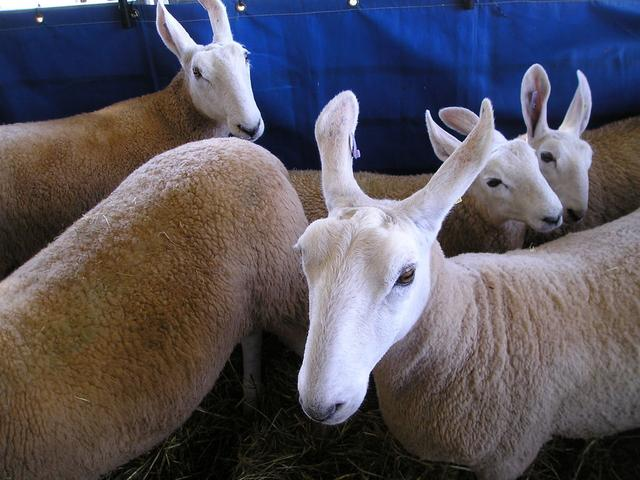sheep: (289, 145, 619, 447), (1, 1, 281, 266)
